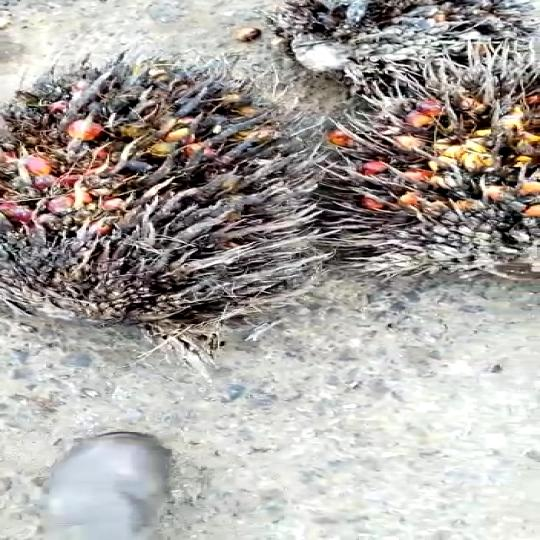terlalu masak: (0, 54, 307, 341), (306, 86, 540, 278)
